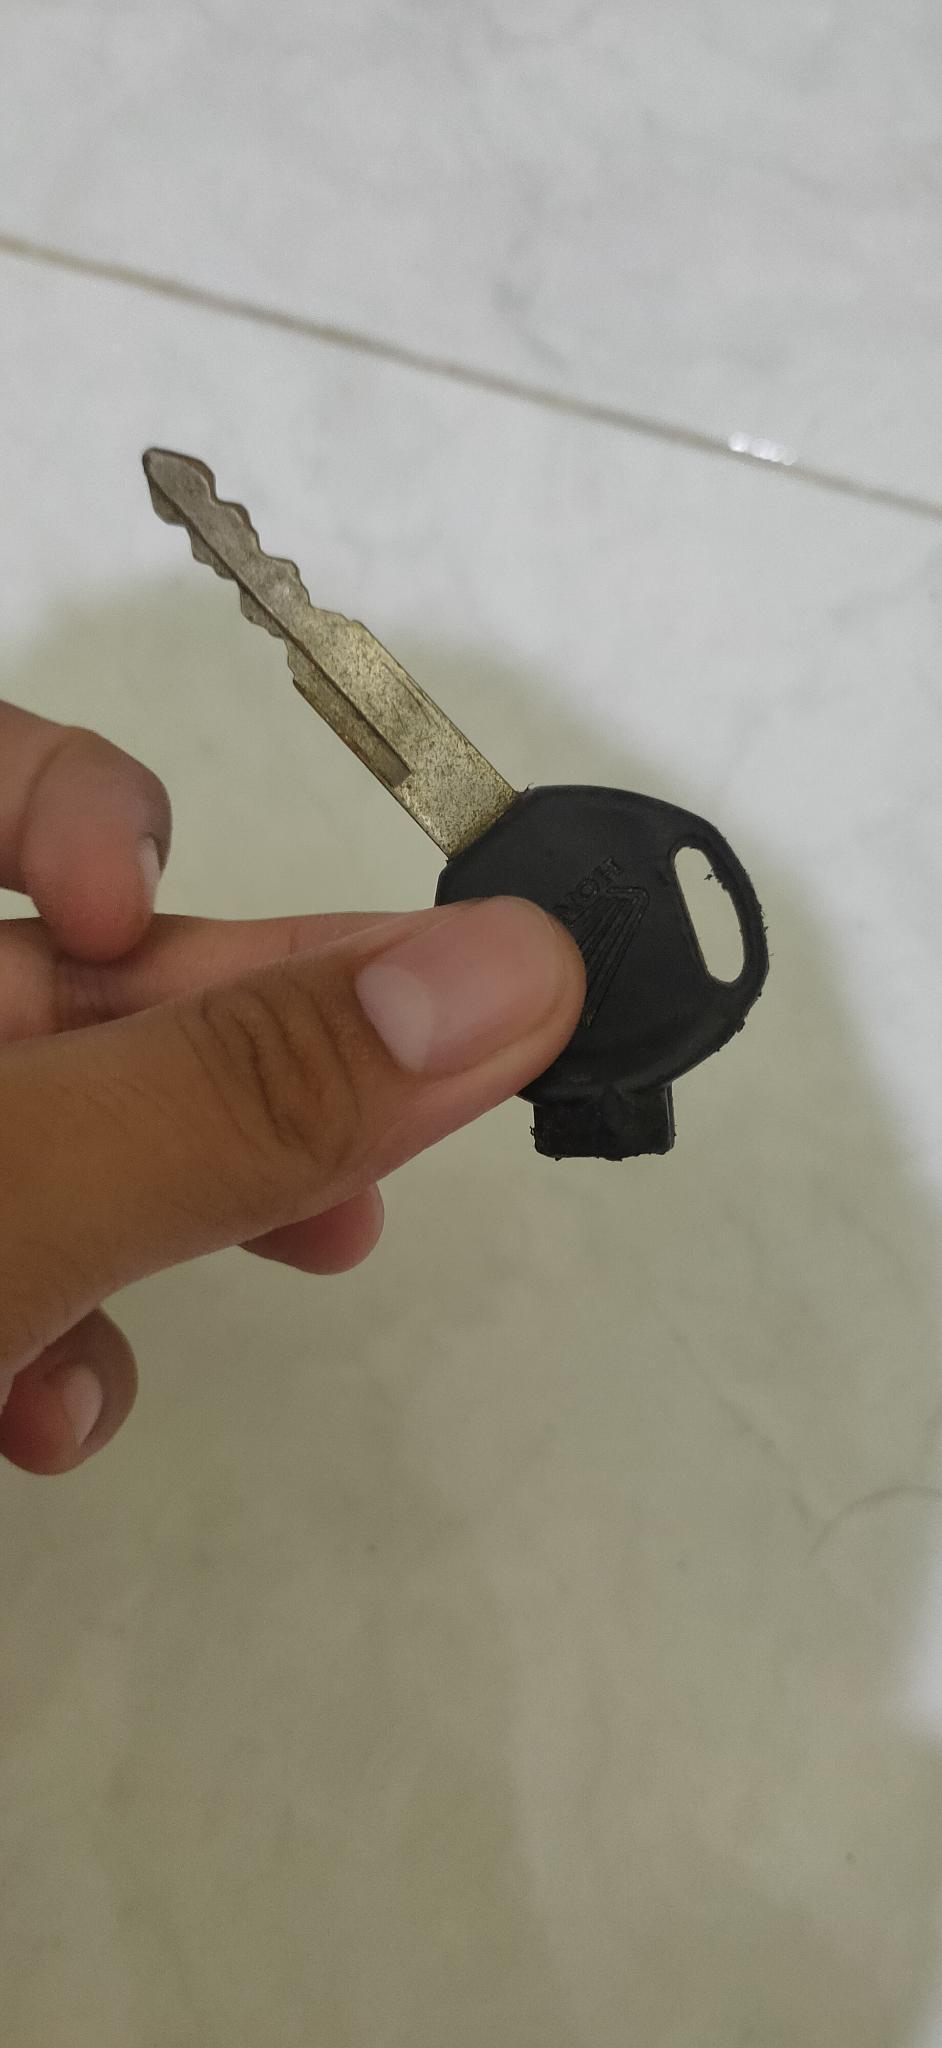keys: (94, 405, 789, 1187)
